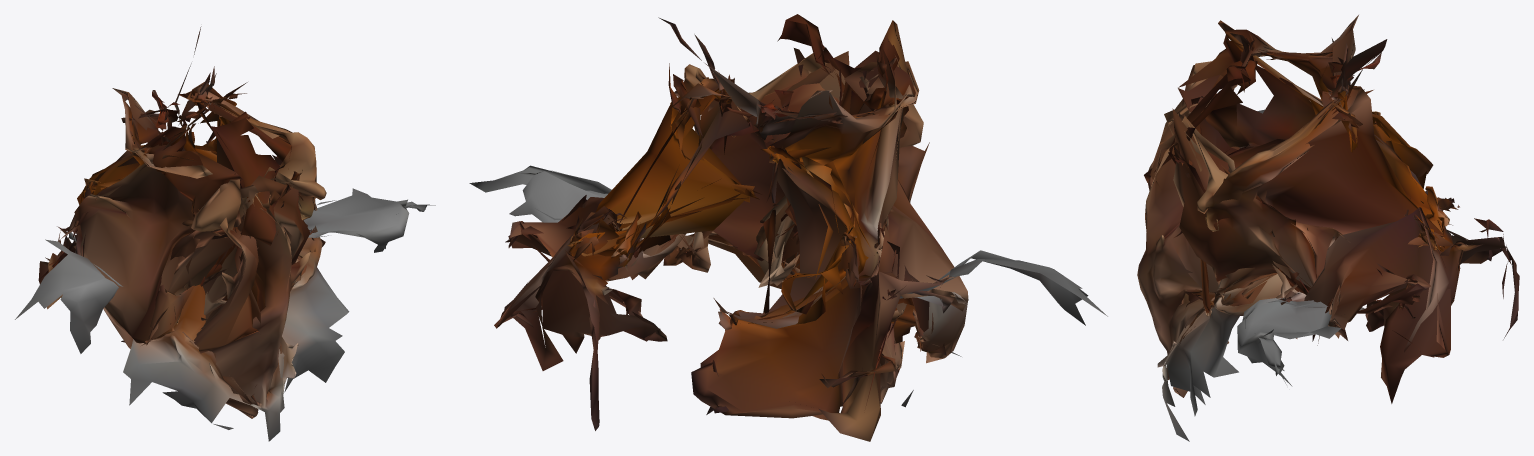
File: pred_twitch_nerve.glb
The picture shows the model from 3 angles, left to right: view 1: azimuth 30°, elevation 25°; view 2: azimuth 150°, elevation 25°; view 3: azimuth 270°, elevation 25°; orthographic projection. The views are drawn at different scales.
Parts seen in each view (by area): view 1: dn.glb-fitted; view 2: dn.glb-fitted; view 3: dn.glb-fitted.
Boxes of the visible parts, x1=… form: dn.glb-fitted: x1=15, y1=26, x2=435, y2=441; dn.glb-fitted: x1=469, y1=14, x2=1107, y2=441; dn.glb-fitted: x1=1137, y1=15, x2=1519, y2=441.
Bounding box in the file's own units: 0.5926 × 0.4539 × 0.3772.
